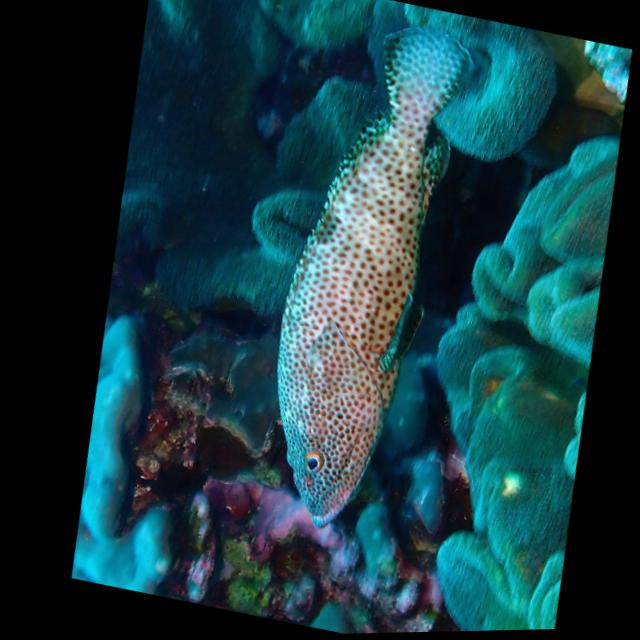Groupers: (203, 2, 529, 548)
